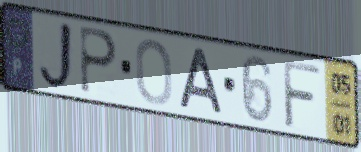6: (240, 53, 275, 126)
A: (177, 45, 226, 118)
F: (281, 57, 323, 133)
J: (36, 18, 78, 94)
O: (133, 36, 175, 108)
P: (78, 23, 119, 98)
